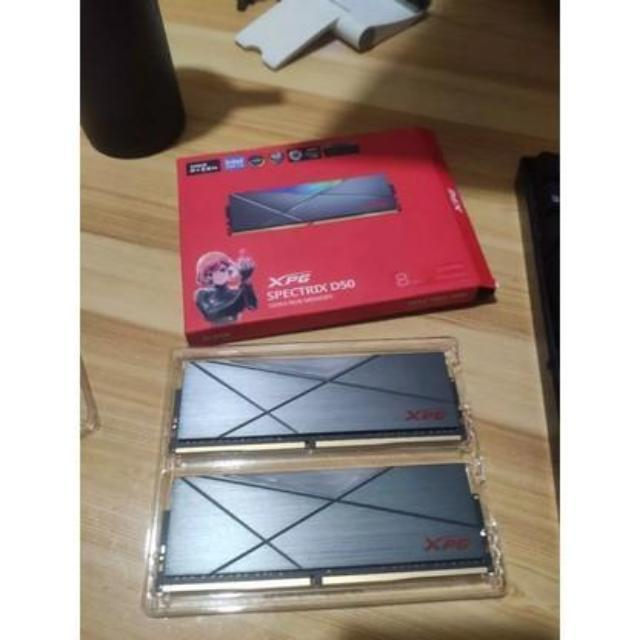RAM: (160, 472, 494, 594), (161, 354, 470, 456)
